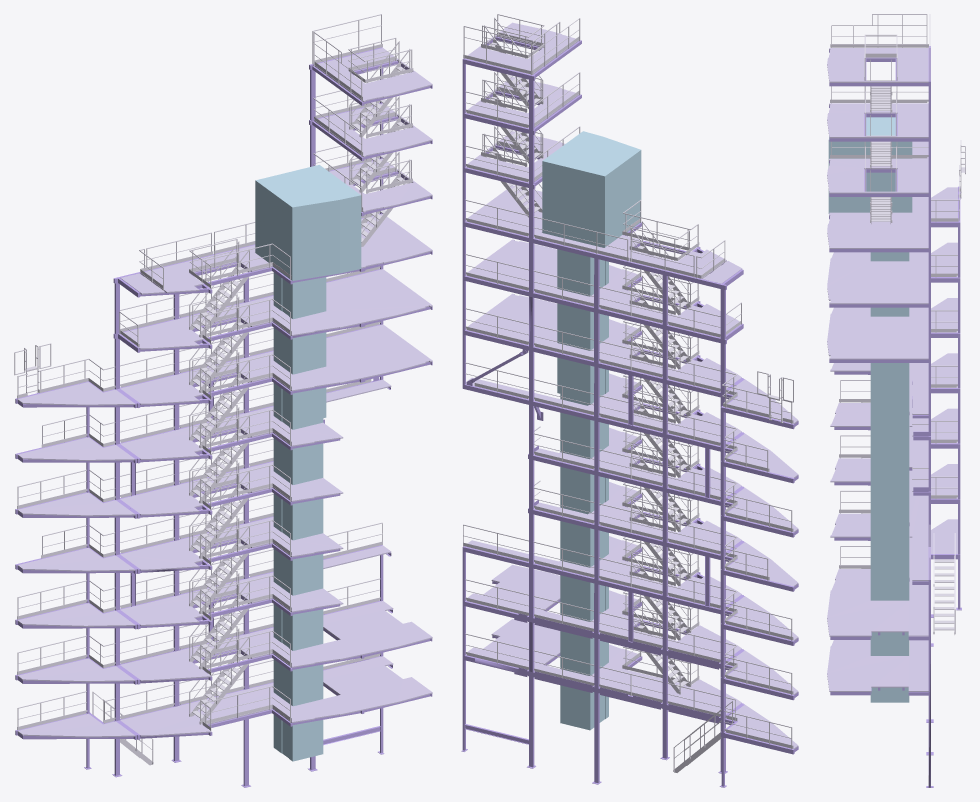
File: HO-Side-A-Platforms-cut2.glb
3 renders of one model, left to right at view 1: azimuth 30°, elevation 25°; view 2: azimuth 150°, elevation 25°; view 3: azimuth 270°, elevation 25°, orthographic. The views are drawn at different scales.
Visible parts, largest first — view 1: _000002A20C9D5880_IndexedFaceSet, _000002A20C9D44D0_IndexedFaceSet, _000002A20CA10830_IndexedFaceSet, _000002A20C9D5730_IndexedFaceSet; view 2: _000002A20C9D5880_IndexedFaceSet, _000002A20C9D44D0_IndexedFaceSet, _000002A20C9D5730_IndexedFaceSet, _000002A20CA10830_IndexedFaceSet; view 3: _000002A20C9D5880_IndexedFaceSet, _000002A20CA10830_IndexedFaceSet, _000002A20C9D5730_IndexedFaceSet, _000002A20C9D44D0_IndexedFaceSet.
Boxes of the visible parts, box(x1,y1,x2,y2) form: _000002A20C9D5880_IndexedFaceSet: box(17, 48, 432, 737); _000002A20C9D44D0_IndexedFaceSet: box(14, 14, 413, 765); _000002A20CA10830_IndexedFaceSet: box(255, 165, 361, 761); _000002A20C9D5730_IndexedFaceSet: box(15, 47, 432, 787); _000002A20C9D5880_IndexedFaceSet: box(465, 22, 798, 749); _000002A20C9D44D0_IndexedFaceSet: box(463, 14, 793, 772); _000002A20C9D5730_IndexedFaceSet: box(461, 36, 798, 787); _000002A20CA10830_IndexedFaceSet: box(542, 131, 641, 730); _000002A20C9D5880_IndexedFaceSet: box(827, 48, 957, 691); _000002A20CA10830_IndexedFaceSet: box(828, 117, 912, 702); _000002A20C9D5730_IndexedFaceSet: box(829, 46, 961, 787); _000002A20C9D44D0_IndexedFaceSet: box(830, 14, 965, 634).
Size of the model in its own units: 16.69 by 33.4 by 5.68.
